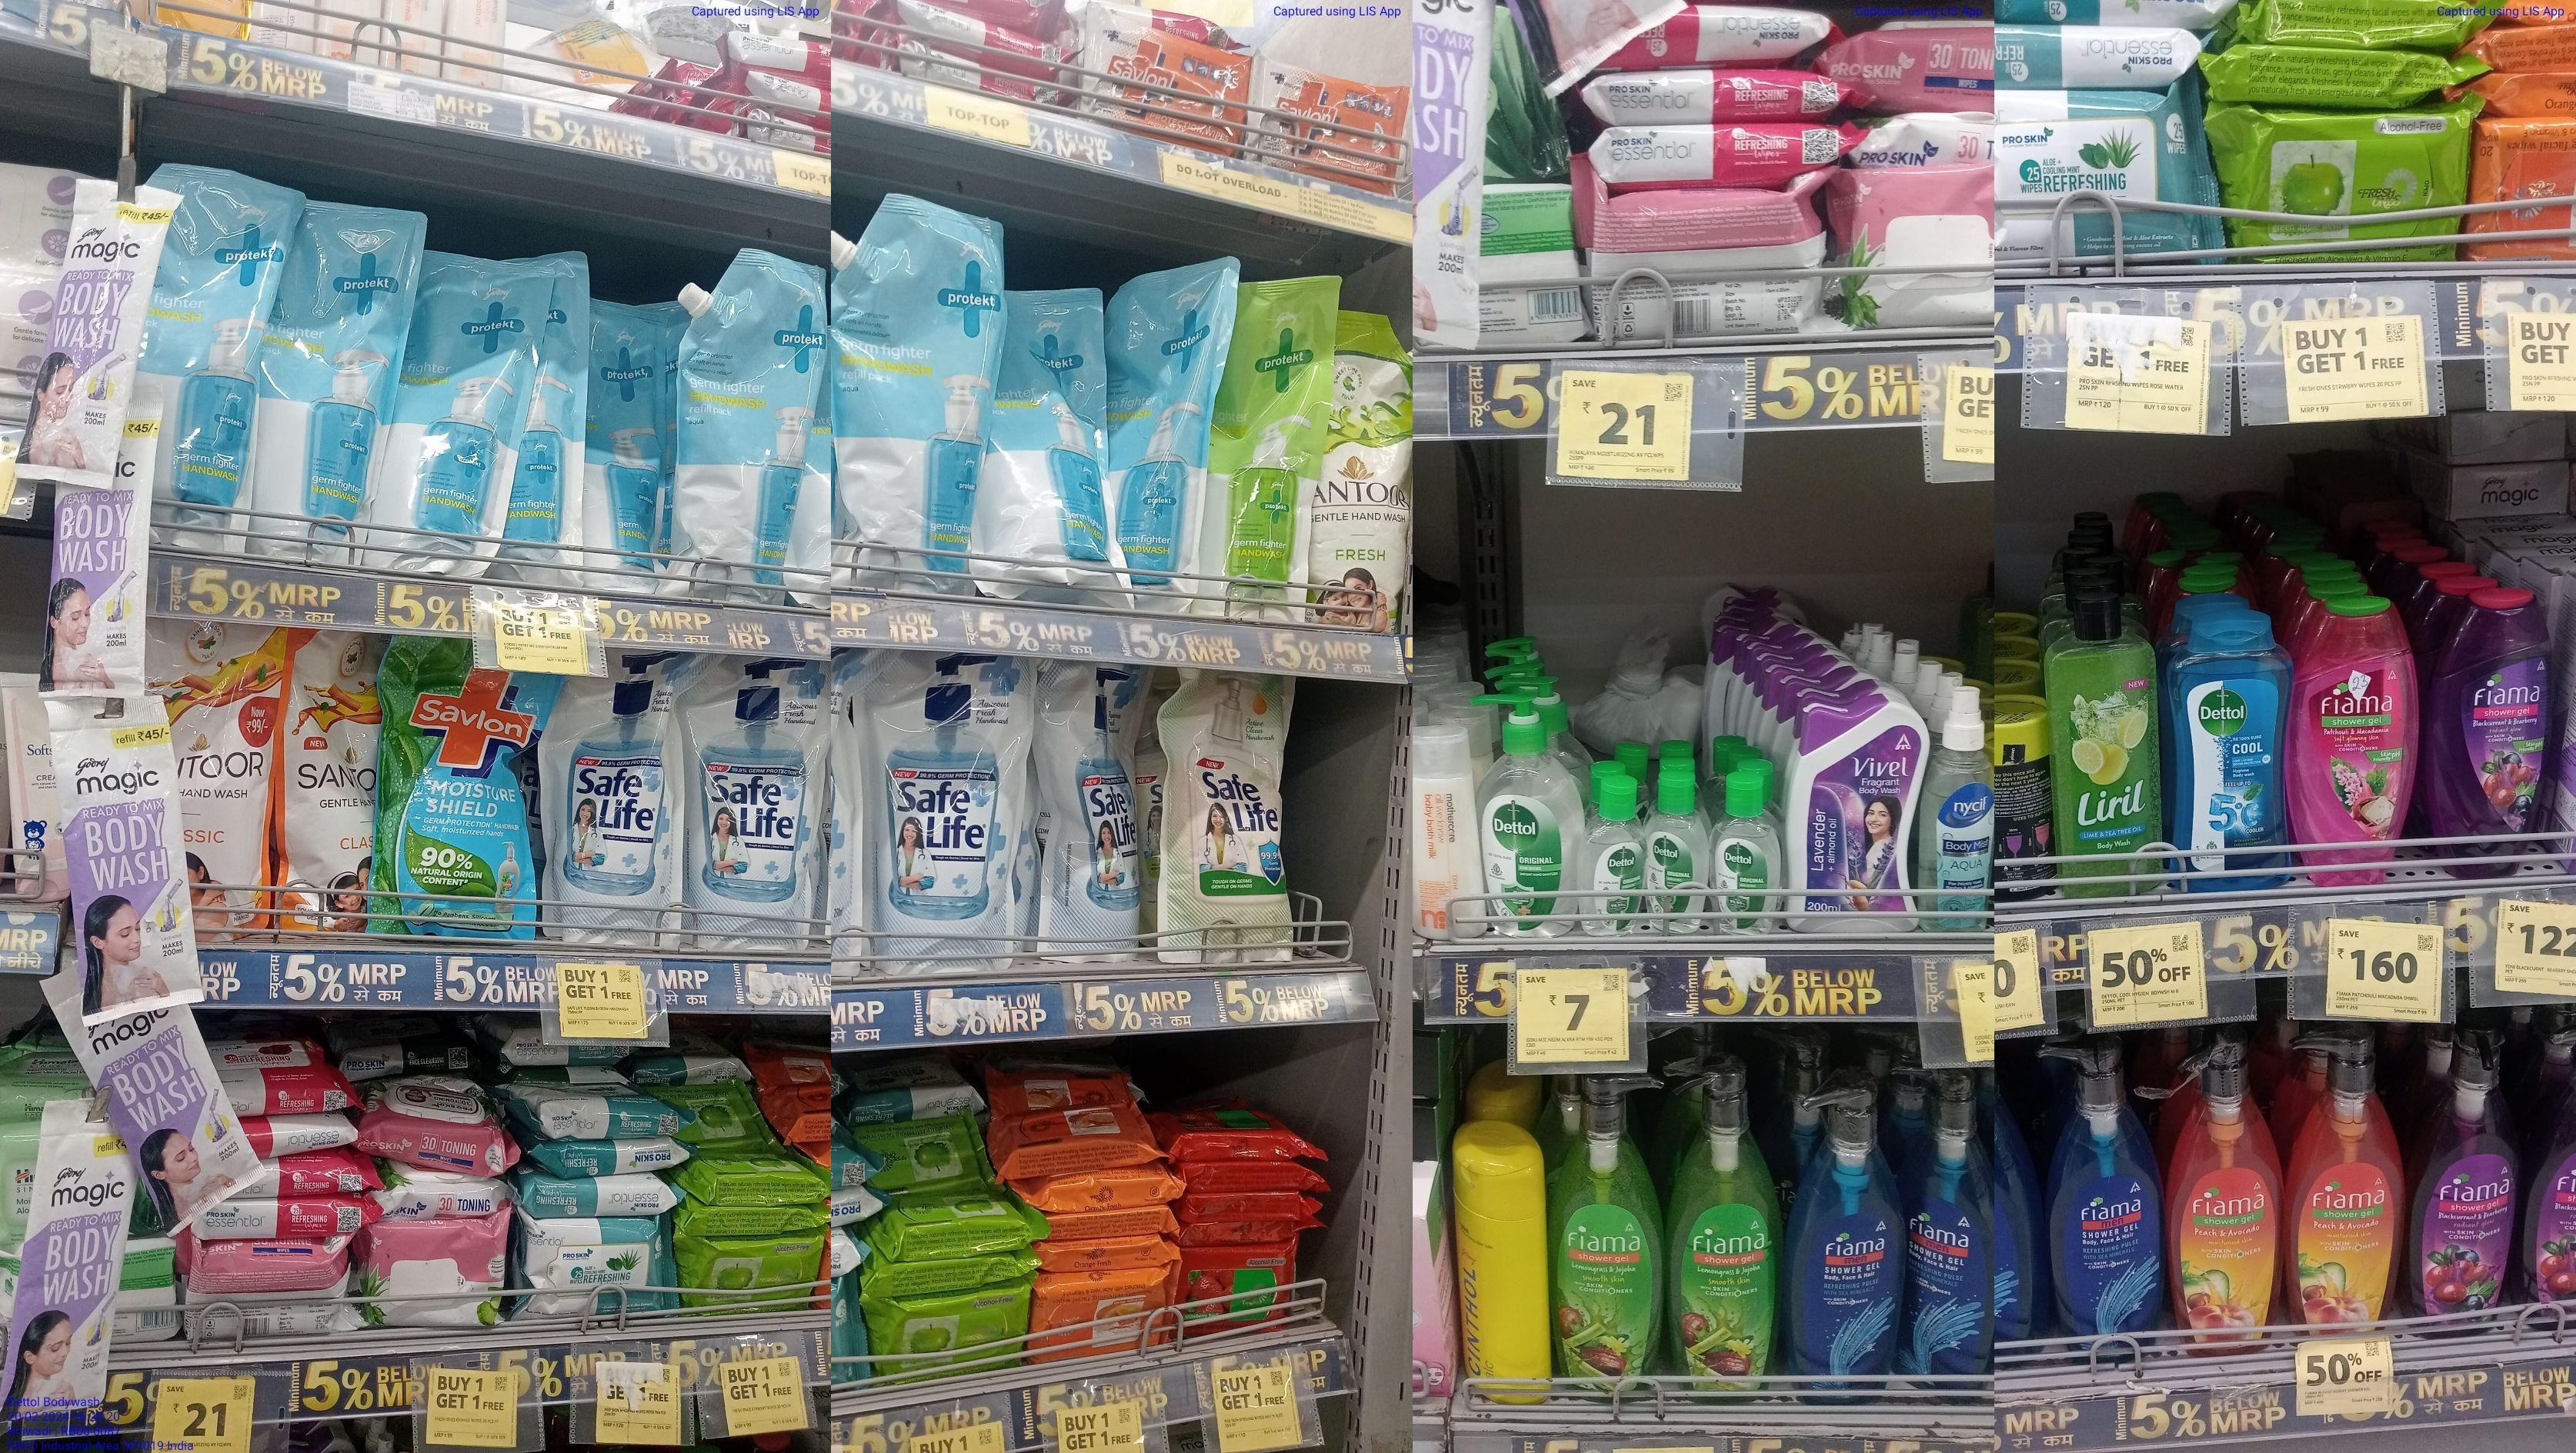Dettol_Bodywash_Cool: (2178, 605, 2293, 898)
Fiama_Shower_Gel_Patchouli_and_Macadamia_250ML: (2302, 599, 2417, 886)
Liril_Lime_and_Tea_Tree_Oil_Body_Wash_250ML: (2051, 582, 2160, 898)
